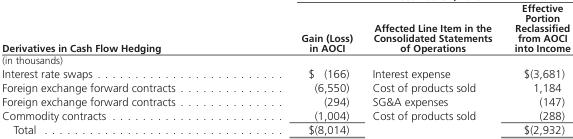table: (1, 1, 569, 136)
table column: (1, 1, 237, 136), (361, 1, 502, 136), (237, 1, 361, 136), (502, 1, 569, 136)
table column header: (1, 1, 569, 66)
table row: (1, 1, 569, 66), (1, 66, 569, 80), (1, 80, 569, 94), (1, 94, 569, 108), (1, 108, 569, 122), (1, 122, 569, 136)
